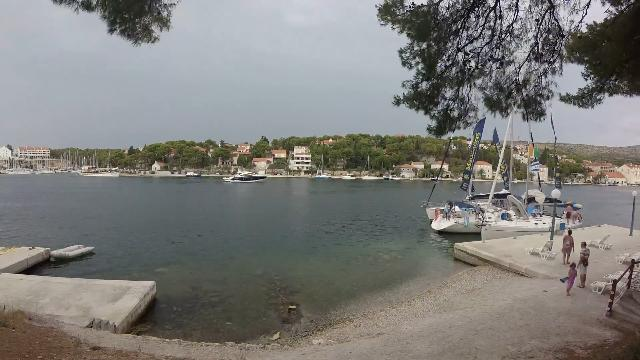speedboat: (220, 160, 272, 187)
